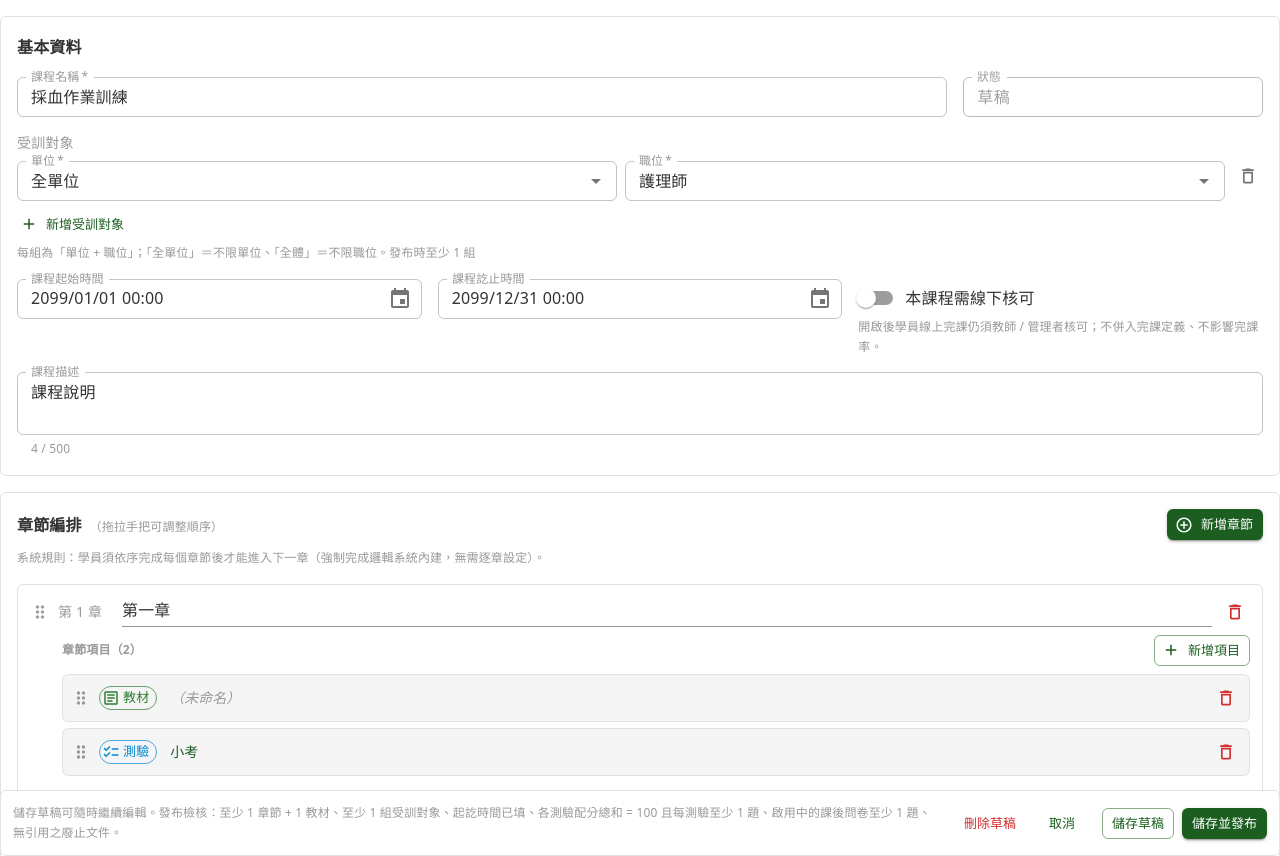
it: ET05 發布缺漏：視窗 → 紅框（#558） › 視窗開著時不標紅框，關閉後各類缺漏框在對應的元素上（AC 3）
Clear the field showing "採血作業訓練" at (482, 97), box x1=17 y1=77 x2=948 y2=117
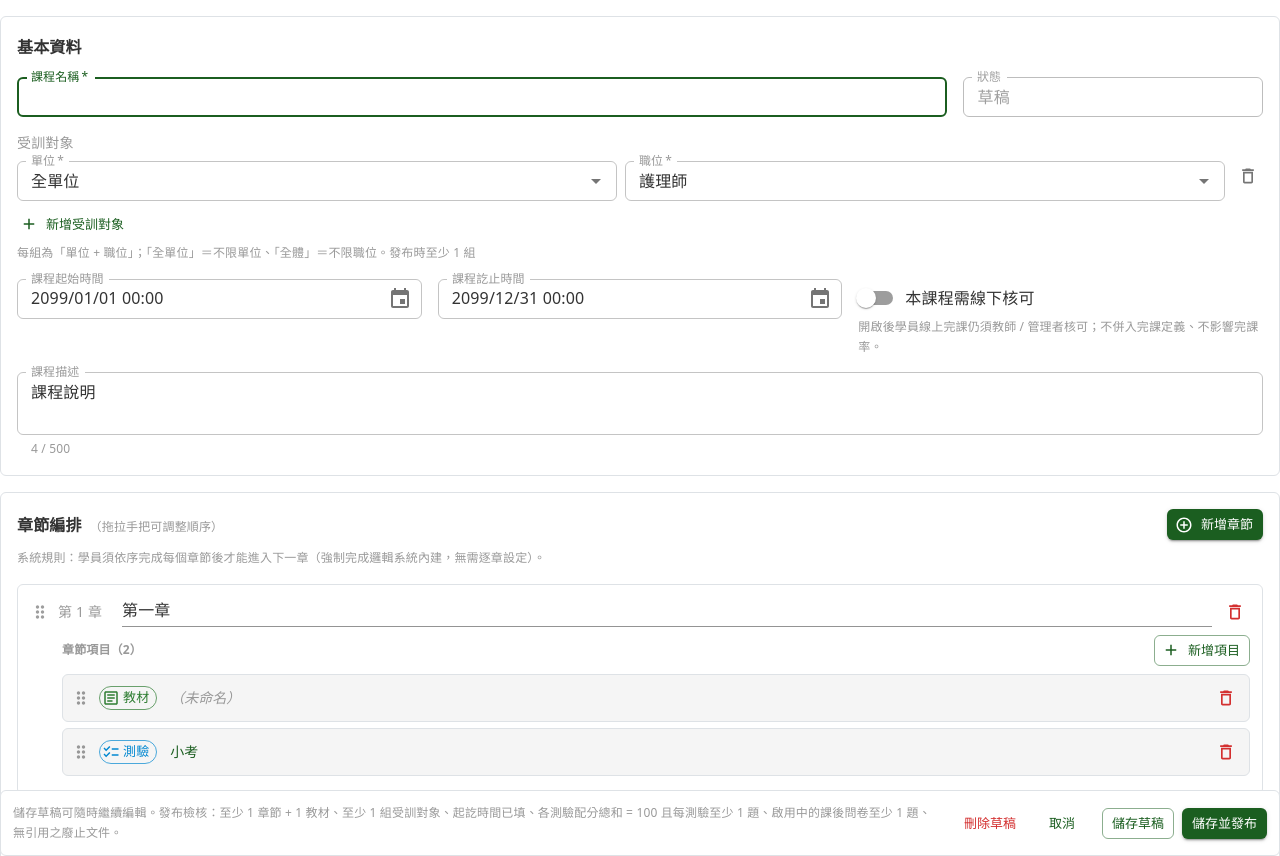
Click the button "儲存並發布".
click(1224, 823)  # box x1=1182 y1=808 x2=1267 y2=838
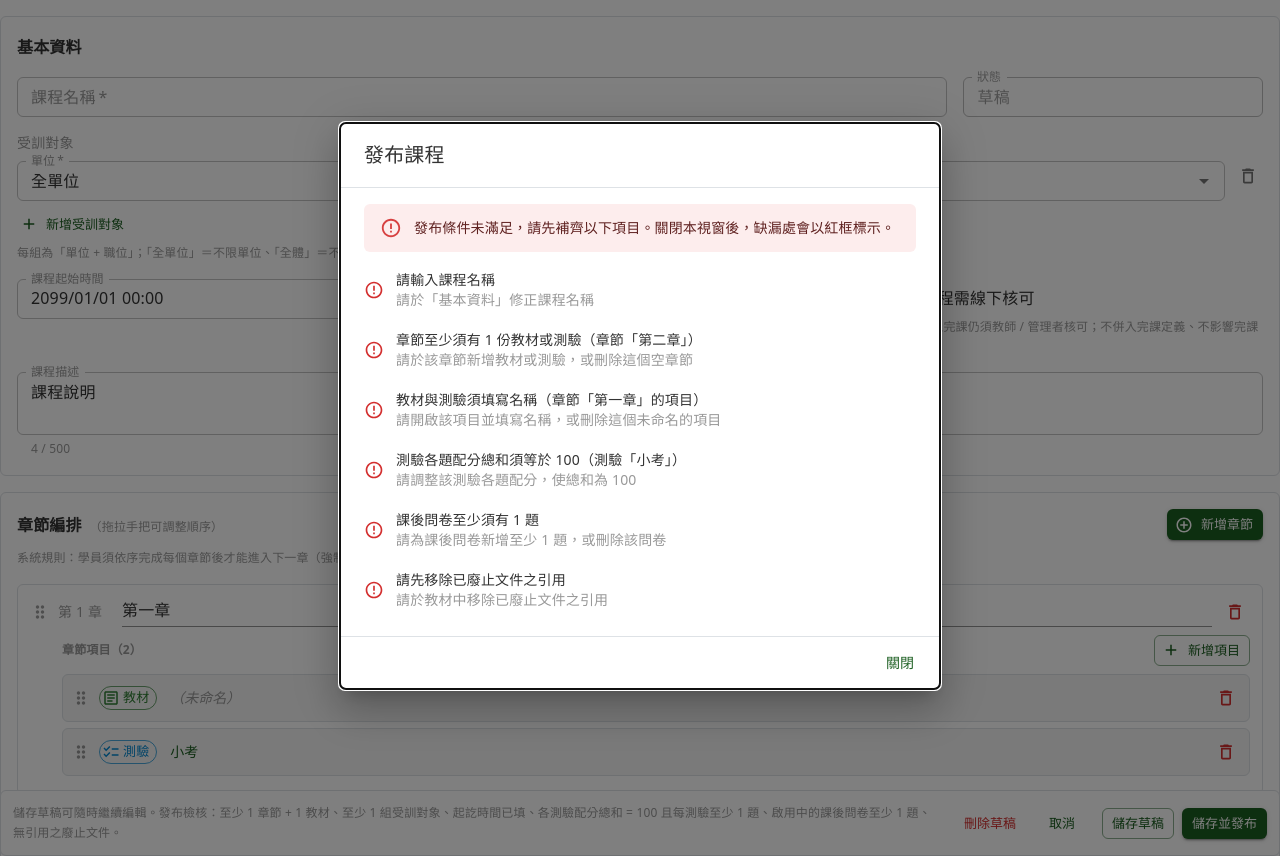
Expected: the text "請輸入課程名稱" is shown, x1=396 y1=270 x2=495 y2=289
Click the button "關閉".
click(900, 663)  # box x1=868 y1=645 x2=932 y2=681
(page scrolled)
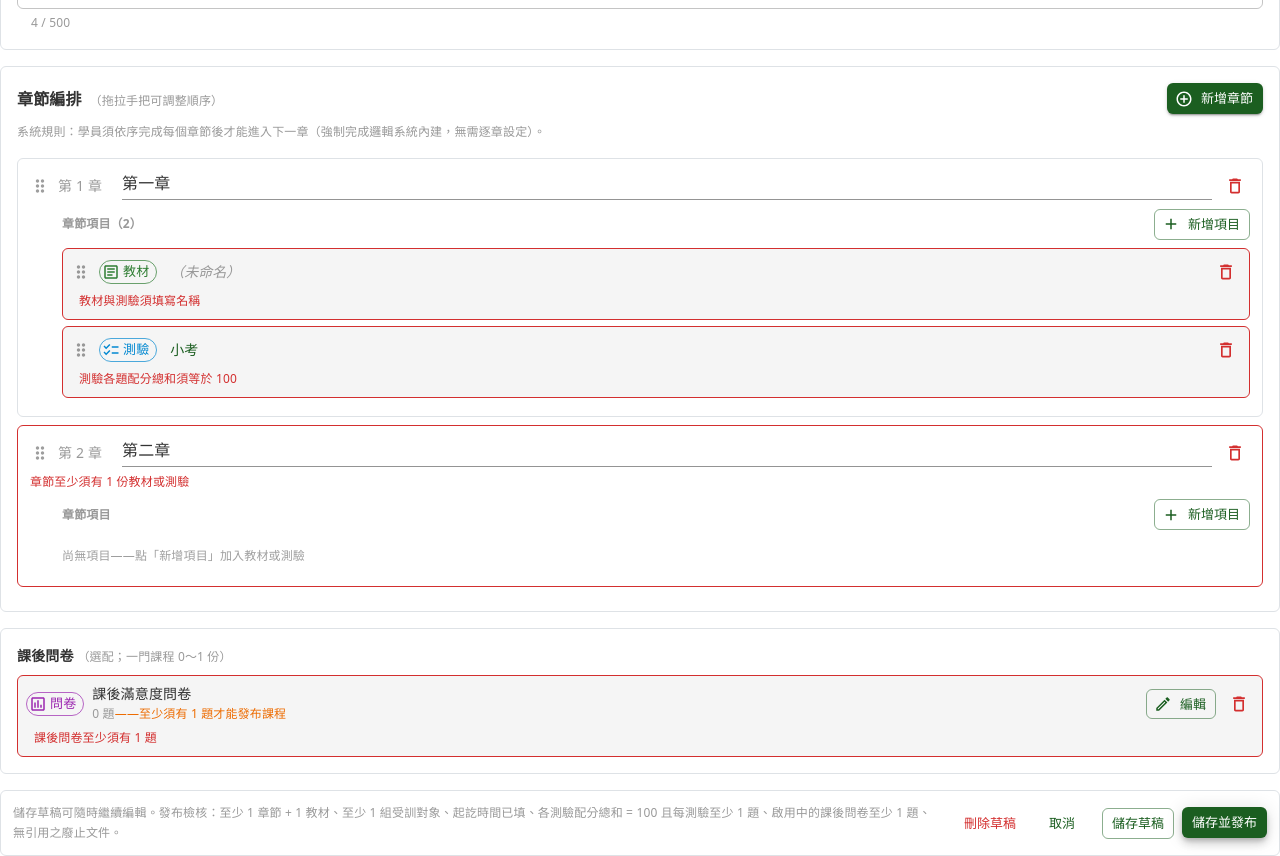
Expected: the button named "刪除章節 第二章" is shown, x1=1220 y1=438 x2=1250 y2=468
Expected: the dialog is gone
